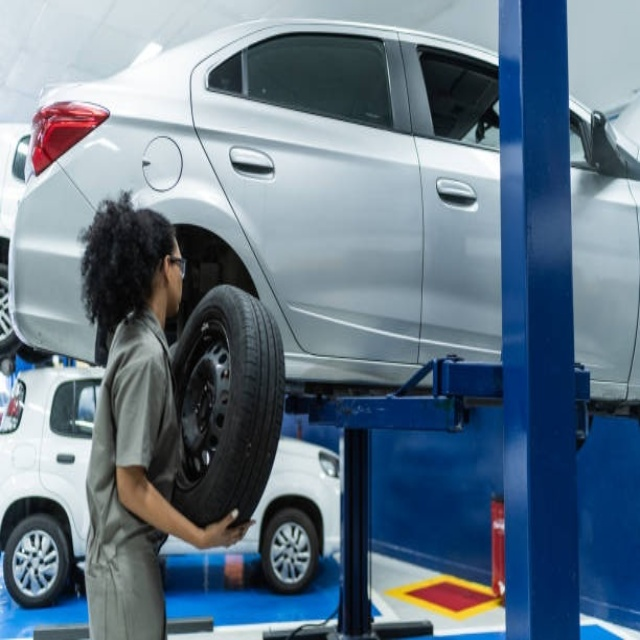Gafas: (166, 255, 187, 277)
Sin_guantes: (197, 499, 258, 552)
